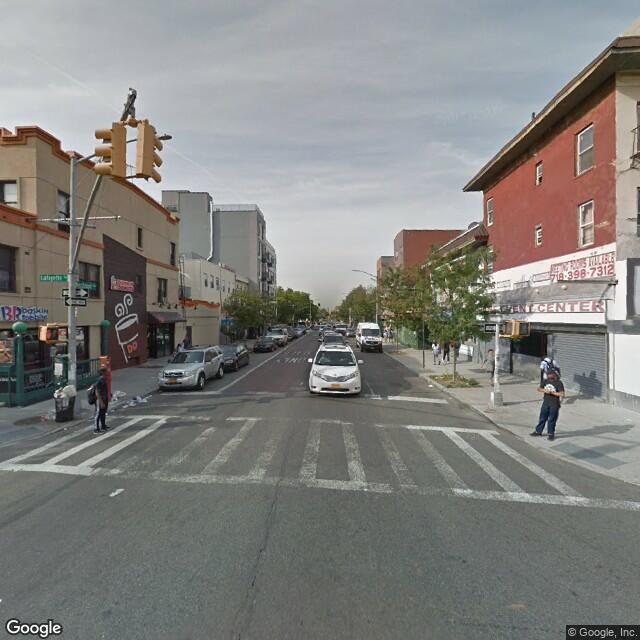litter: (117, 391, 163, 411), (106, 487, 130, 502)
